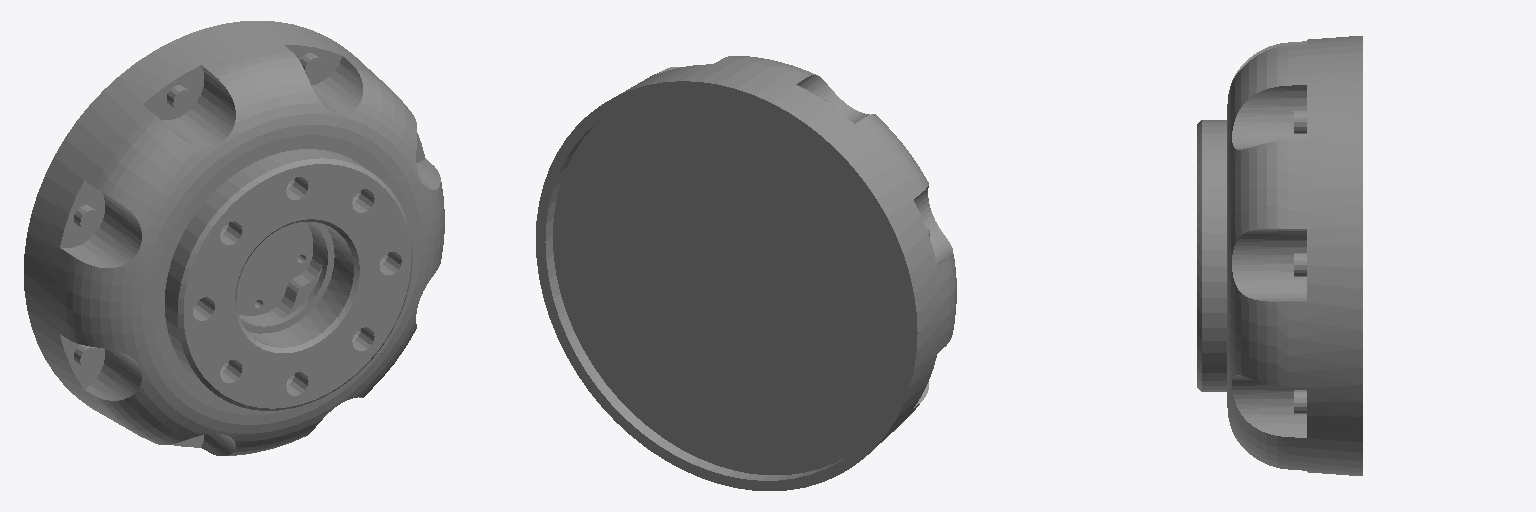
The picture shows the model from 3 angles: view 1: azimuth 30°, elevation 25°; view 2: azimuth 150°, elevation 25°; view 3: azimuth 270°, elevation 25°; orthographic projection.
Parts seen in each view (by area): view 1: link_7; view 2: link_7; view 3: link_7.
Boxes of the visible parts, x1=… form: link_7: x1=24, y1=21, x2=444, y2=455; link_7: x1=536, y1=56, x2=956, y2=490; link_7: x1=1197, y1=36, x2=1362, y2=475.
Size of the model in its own units: 0.1023 by 0.1021 by 0.0384.